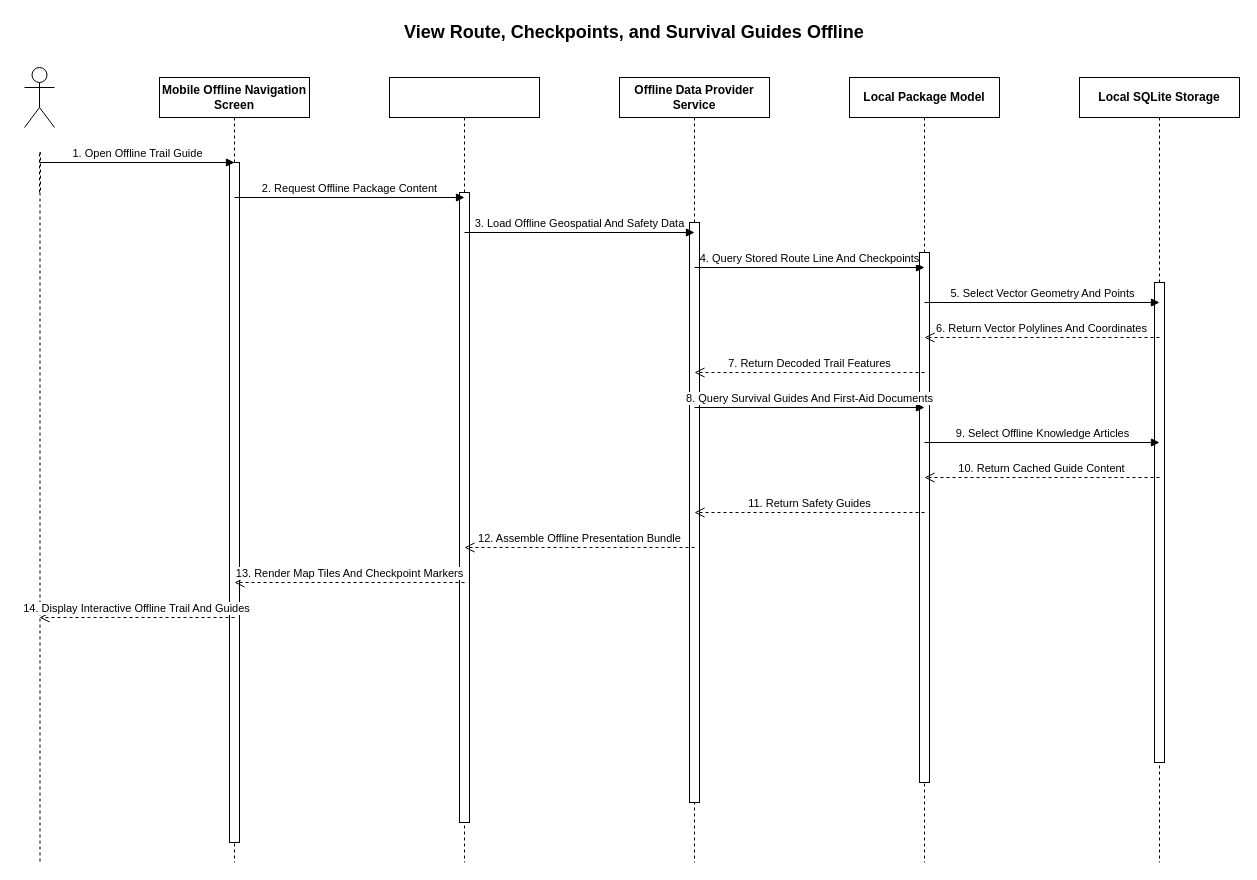
This 1257x880 diagram has some shape labels left out. The box of each missing label's shape, as (x1, y1, x2, y2) in pixels:
Camper: (24, 66, 54, 128)
Offline Map Controller: (388, 76, 540, 862)
